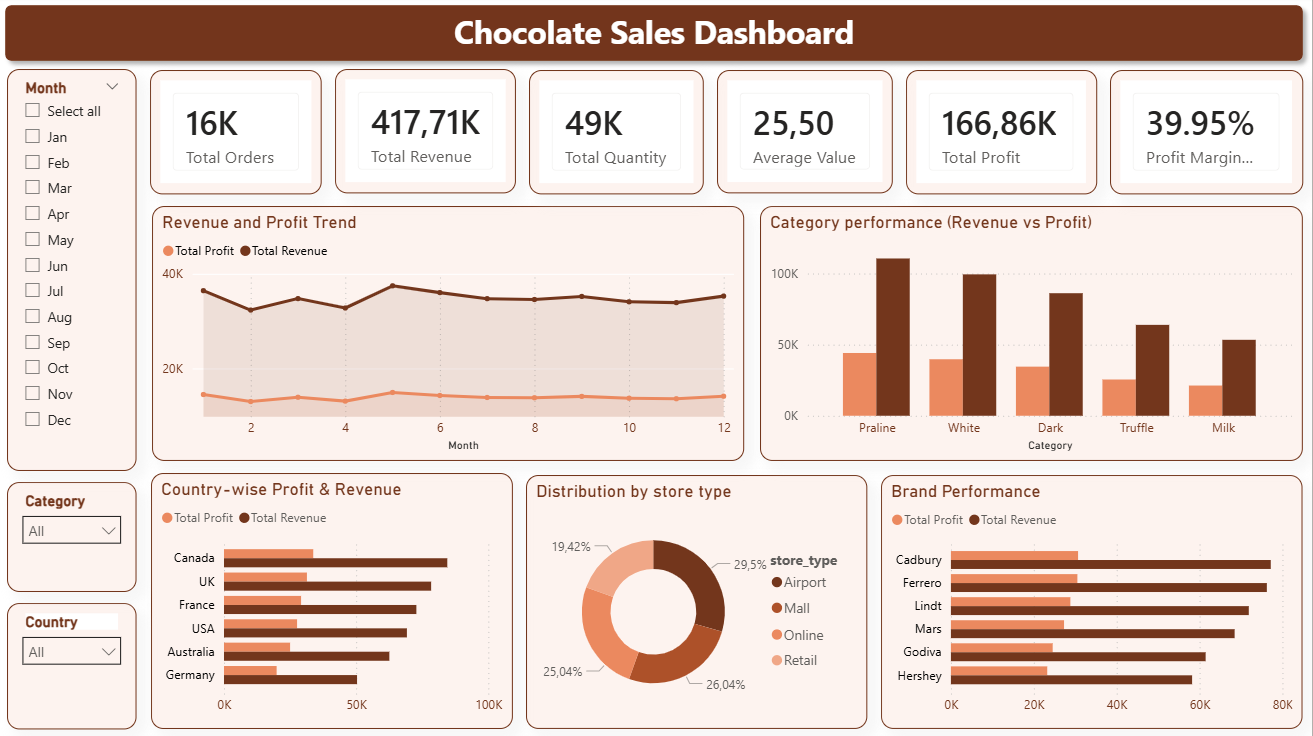

The dashboard page shown, as its layout file describes it:
{"tool":"powerbi","page":{"name":"Page 1","canvas":[1280,720],"ordinal":0},"visuals":[{"type":"shape","box":[0,0,1280,72],"z":0},{"type":"cardVisual","title":"Total Revenue","fields":{"Data":["Sales.Total Revenue"]},"box":[329.7,71,176,120.6],"z":1000},{"type":"cardVisual","fields":{"Data":["Sales.Total Profit"]},"box":[885.1,72,185.8,120.6],"z":2000},{"type":"cardVisual","fields":{"Data":["Sales.Total Orders"]},"box":[149.8,72,167.3,120.6],"z":3000},{"type":"cardVisual","fields":{"Data":["Sales.Profit Margin Display"]},"box":[1083.5,72,187.7,120.6],"z":4000},{"type":"lineChart","title":"Revenue and Profit Trend","fields":{"Category":["Calendar.month"],"Y":["Sales.Total Profit","Sales.Total Revenue"]},"box":[152,204.3,576,248],"z":5000},{"type":"clusteredBarChart","title":"Country-wise Profit & Revenue","fields":{"Category":["Store.country"],"Y":["Sales.Total Profit","Sales.Total Revenue"]},"box":[150.8,464,352.1,249],"z":6000},{"type":"clusteredBarChart","title":"Brand Performance","fields":{"Category":["Product.brand"],"Y":["Sales.Total Profit","Sales.Total Revenue"]},"box":[860.8,465.9,410.5,247.1],"z":7000},{"type":"donutChart","title":"Distribution by store type","fields":{"Category":["Store.store_type"],"Y":["Sales.Total Revenue"]},"box":[515.5,465.9,331.7,247.1],"z":8000},{"type":"slicer","fields":{"Values":["Store.country"]},"box":[10.7,590.4,126.4,122.6],"z":9000},{"type":"slicer","fields":{"Values":["Product.category"]},"box":[10.7,472.7,126.4,107],"z":10000},{"type":"slicer","fields":{"Values":["Calendar.Month Name"]},"box":[10.7,71,126.4,391],"z":11000},{"type":"clusteredColumnChart","title":"Category performance (Revenue vs Profit)","fields":{"Category":["Product.category"],"Y":["Sales.Total Profit","Sales.Total Revenue"]},"box":[743.1,204.3,528.1,248],"z":12000},{"type":"cardVisual","fields":{"Data":["Sales.Total Quantity"]},"box":[518.4,72,170.2,120.6],"z":13000},{"type":"cardVisual","fields":{"Data":["Sales.Average Order Value"]},"box":[701.3,72,171.2,119.6],"z":14000}]}

Visuals, with their boxes in screenshot pixels (x1, y1, x2, y2), scaled from the page's 1280x720 canvas onto the 1313x736 screenshot:
shape: rect(0, 0, 1312, 74)
"Total Revenue" cardVisual: rect(338, 73, 519, 196)
cardVisual - Sales.Total Profit: rect(908, 74, 1099, 197)
cardVisual - Sales.Total Orders: rect(154, 74, 325, 197)
cardVisual - Sales.Profit Margin Display: rect(1111, 74, 1304, 197)
"Revenue and Profit Trend" lineChart: rect(156, 209, 747, 462)
"Country-wise Profit & Revenue" clusteredBarChart: rect(155, 474, 516, 729)
"Brand Performance" clusteredBarChart: rect(883, 476, 1304, 729)
"Distribution by store type" donutChart: rect(529, 476, 869, 729)
slicer - Store.country: rect(11, 604, 141, 729)
slicer - Product.category: rect(11, 483, 141, 593)
slicer - Calendar.Month Name: rect(11, 73, 141, 472)
"Category performance (Revenue vs Profit)" clusteredColumnChart: rect(762, 209, 1304, 462)
cardVisual - Sales.Total Quantity: rect(532, 74, 706, 197)
cardVisual - Sales.Average Order Value: rect(719, 74, 895, 196)
